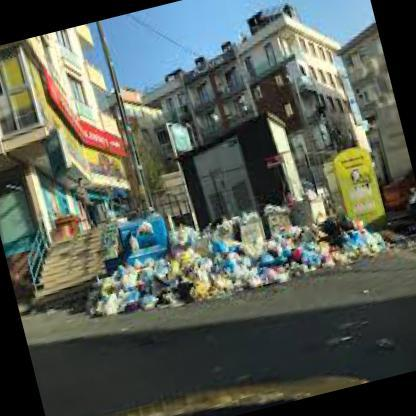Garbage: (90, 244, 268, 324), (274, 244, 332, 298), (212, 251, 262, 283), (350, 225, 386, 268), (166, 231, 204, 268), (160, 267, 192, 300), (214, 258, 241, 282), (124, 281, 143, 305), (298, 244, 314, 268), (334, 249, 345, 260)
